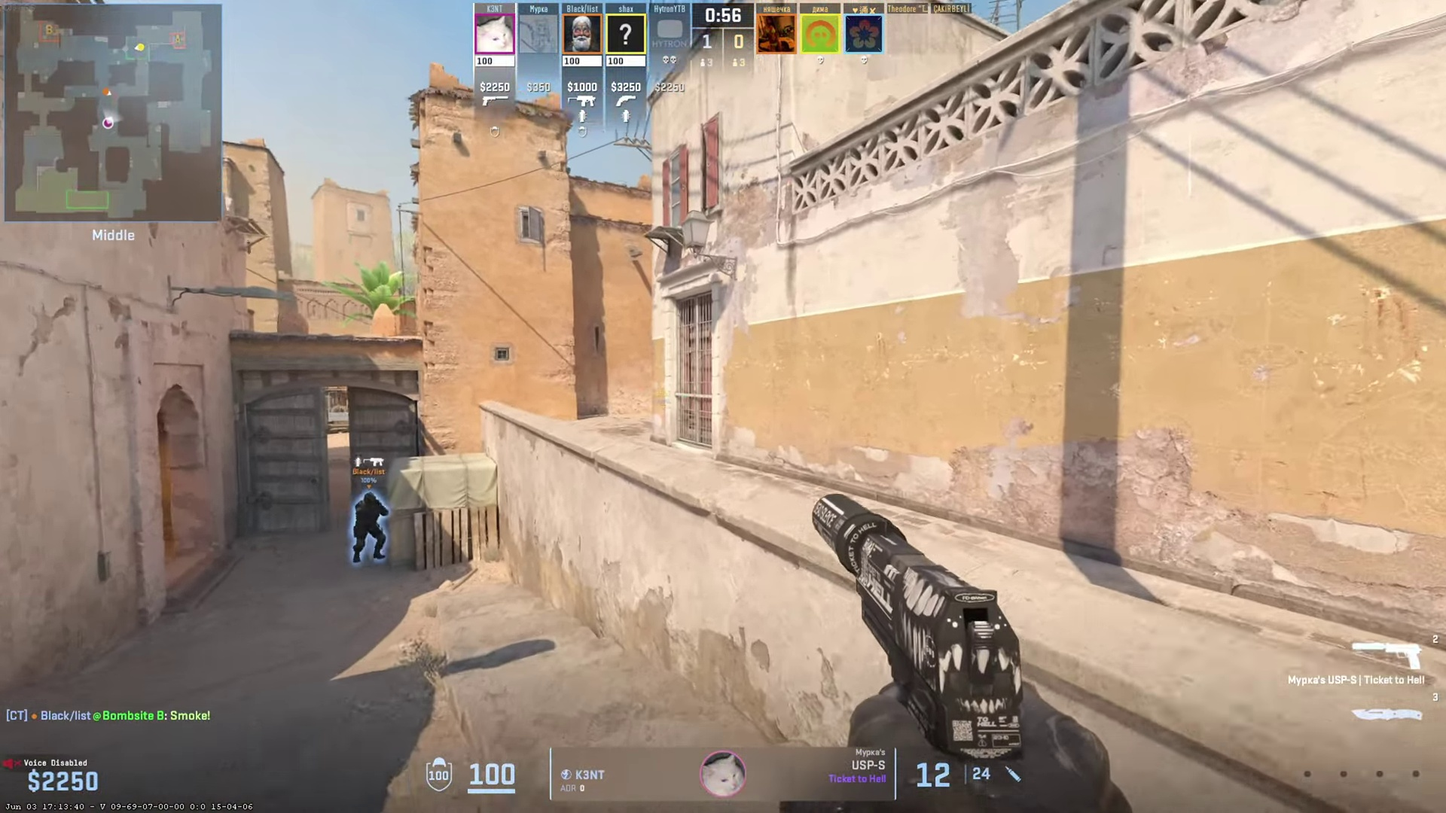CT: (353, 493, 386, 562)
